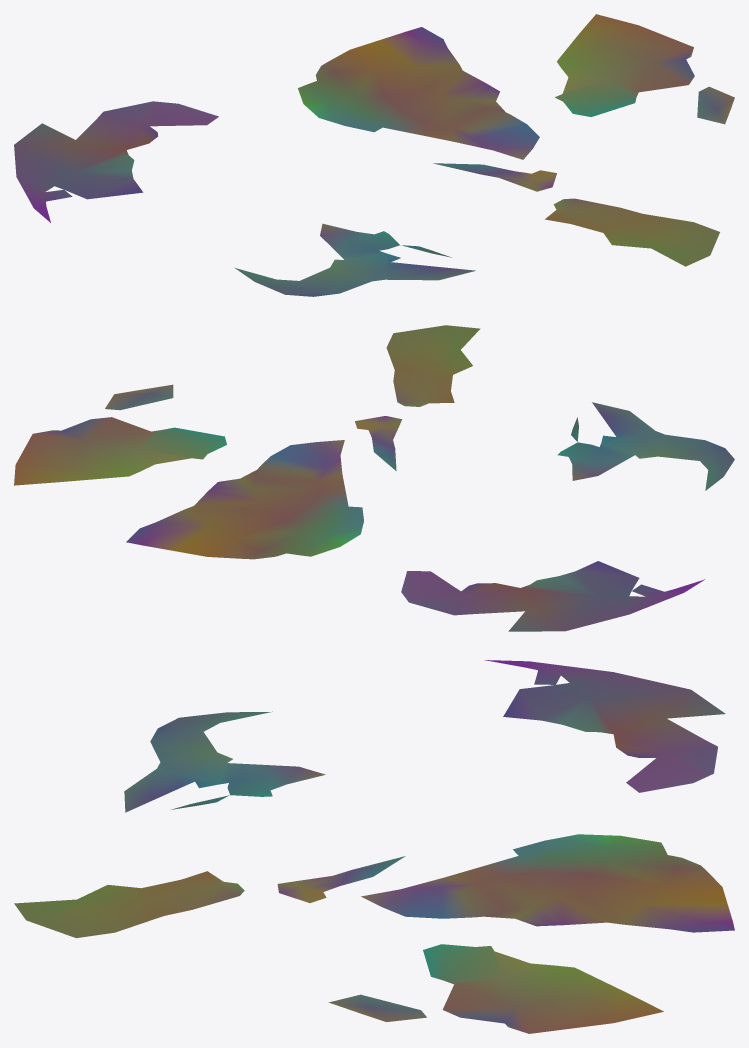
Rendered from space-galaxies-irregular-galaxy_v1.glb.
3 renders of one model, top to bottom at view 1: azimuth 30°, elevation 25°; view 2: azimuth 150°, elevation 25°; view 3: azimuth 270°, elevation 25°, orthographic. The views are drawn at different scales.
Visible parts, largest first — view 1: Irregular Galaxy_v1; view 2: Irregular Galaxy_v1; view 3: Irregular Galaxy_v1.
Boxes of the visible parts, x1,y1,x2,y2 form: Irregular Galaxy_v1: (14, 14, 734, 296); Irregular Galaxy_v1: (14, 325, 734, 631); Irregular Galaxy_v1: (14, 660, 734, 1033).
Bounding box in the file's own units: 0.5 × 6.64e-08 × 0.4074.
